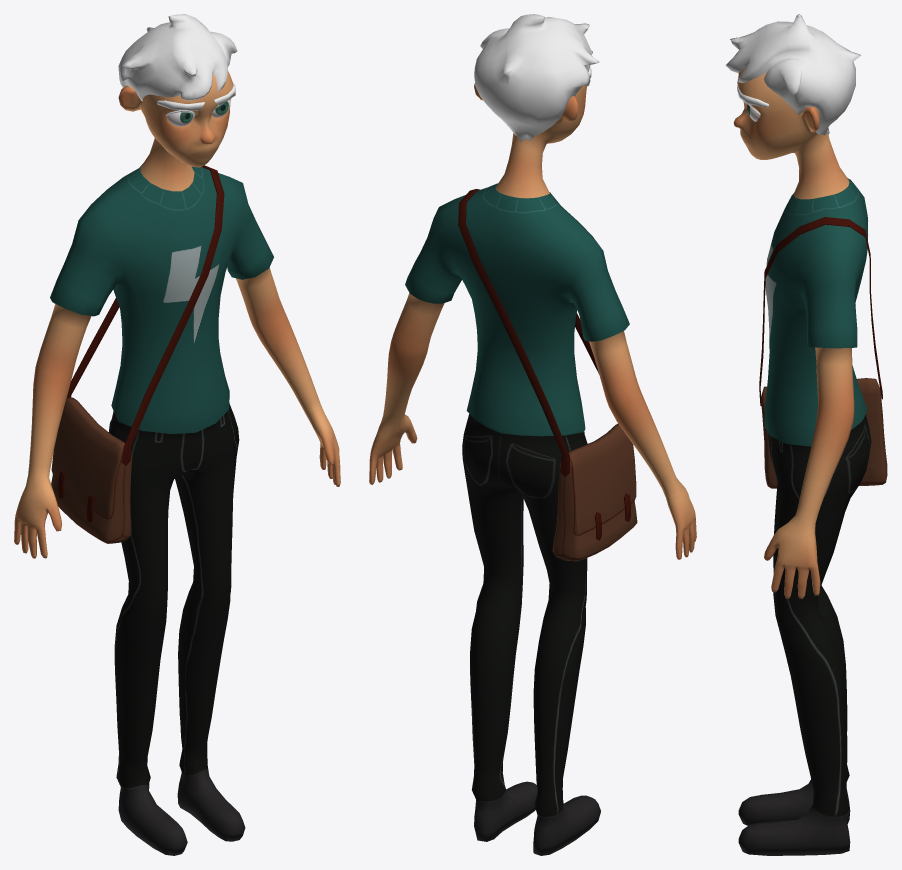
The model's file is man.fbx.
3 renders of one model, left to right at view 1: azimuth 30°, elevation 25°; view 2: azimuth 150°, elevation 25°; view 3: azimuth 270°, elevation 25°, orthographic.
Parts seen in each view (by area): view 1: Body_low_5, BagBase_low_6, Hair_low_0, Head_low_4, BagHandle_low_7; view 2: Body_low_5, Hair_low_0, BagBase_low_6, Head_low_4, BagHandle_low_7; view 3: Body_low_5, Hair_low_0, Head_low_4, BagBase_low_6, BagHandle_low_7.
Part boxes in pixels (<box>): Body_low_5: <box>14,164,340,855</box>; BagBase_low_6: <box>51,397,131,543</box>; Hair_low_0: <box>118,14,237,100</box>; Head_low_4: <box>118,71,233,191</box>; BagHandle_low_7: <box>66,165,224,465</box>; Body_low_5: <box>369,183,696,855</box>; Hair_low_0: <box>474,14,599,141</box>; BagBase_low_6: <box>552,423,637,561</box>; Head_low_4: <box>474,83,587,198</box>; BagHandle_low_7: <box>458,189,599,477</box>; Body_low_5: <box>738,178,871,855</box>; Hair_low_0: <box>725,14,860,135</box>; Head_low_4: <box>733,66,849,199</box>; BagBase_low_6: <box>761,378,887,488</box>; BagHandle_low_7: <box>759,217,882,406</box>.
Size of the model in its own units: 72.97 by 182 by 32.75.
